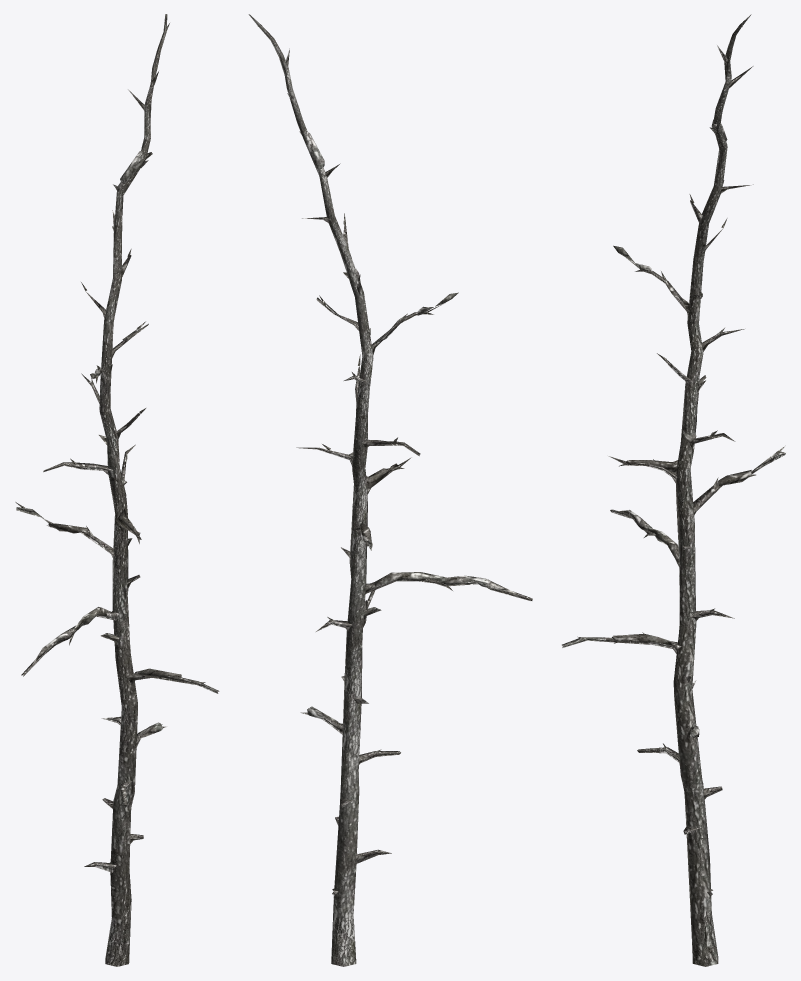
The model's file is arctic-dead-pine-a-close.glb.
3 views of the same model, side by side, from view 1: azimuth 30°, elevation 25°; view 2: azimuth 150°, elevation 25°; view 3: azimuth 270°, elevation 25° (orthographic). The views are drawn at different scales.
Parts seen in each view (by area): view 1: pine_dead_snow_a_LOD0; view 2: pine_dead_snow_a_LOD0; view 3: pine_dead_snow_a_LOD0.
Part boxes in pixels (x1=…): pine_dead_snow_a_LOD0: x1=15, y1=14, x2=219, y2=966; pine_dead_snow_a_LOD0: x1=248, y1=14, x2=532, y2=966; pine_dead_snow_a_LOD0: x1=562, y1=14, x2=785, y2=966.
Size of the model in its own units: 3.67 by 15.22 by 3.16.
1 material, 1 textured.
